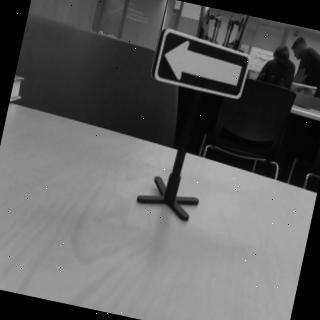sign_oneway_left: (149, 26, 257, 106)
